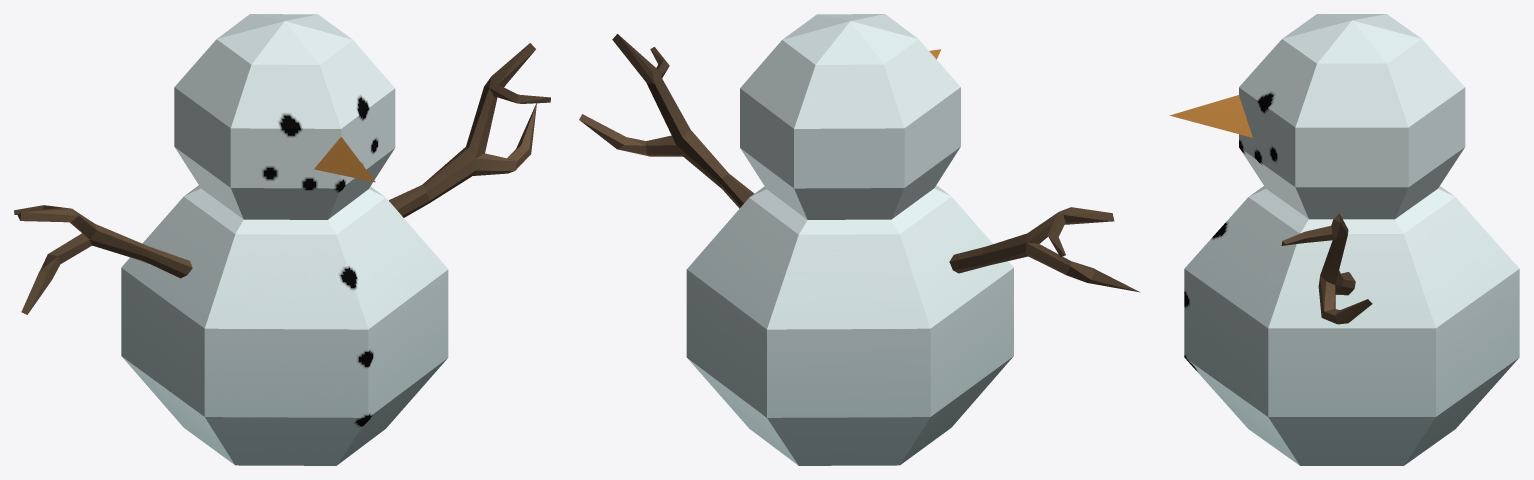
Rendered from snowman.obj.
3 renders of one model, left to right at view 1: azimuth 30°, elevation 25°; view 2: azimuth 150°, elevation 25°; view 3: azimuth 270°, elevation 25°, orthographic.
Visible parts, largest first — view 1: snowman; view 2: snowman; view 3: snowman.
Part boxes in pixels (left/top/right/bottom): snowman: left=14, top=14, right=550, bottom=465; snowman: left=579, top=14, right=1140, bottom=465; snowman: left=1169, top=14, right=1519, bottom=465.
Bounding box in the file's own units: 1.9 × 1.47 × 1.07.
